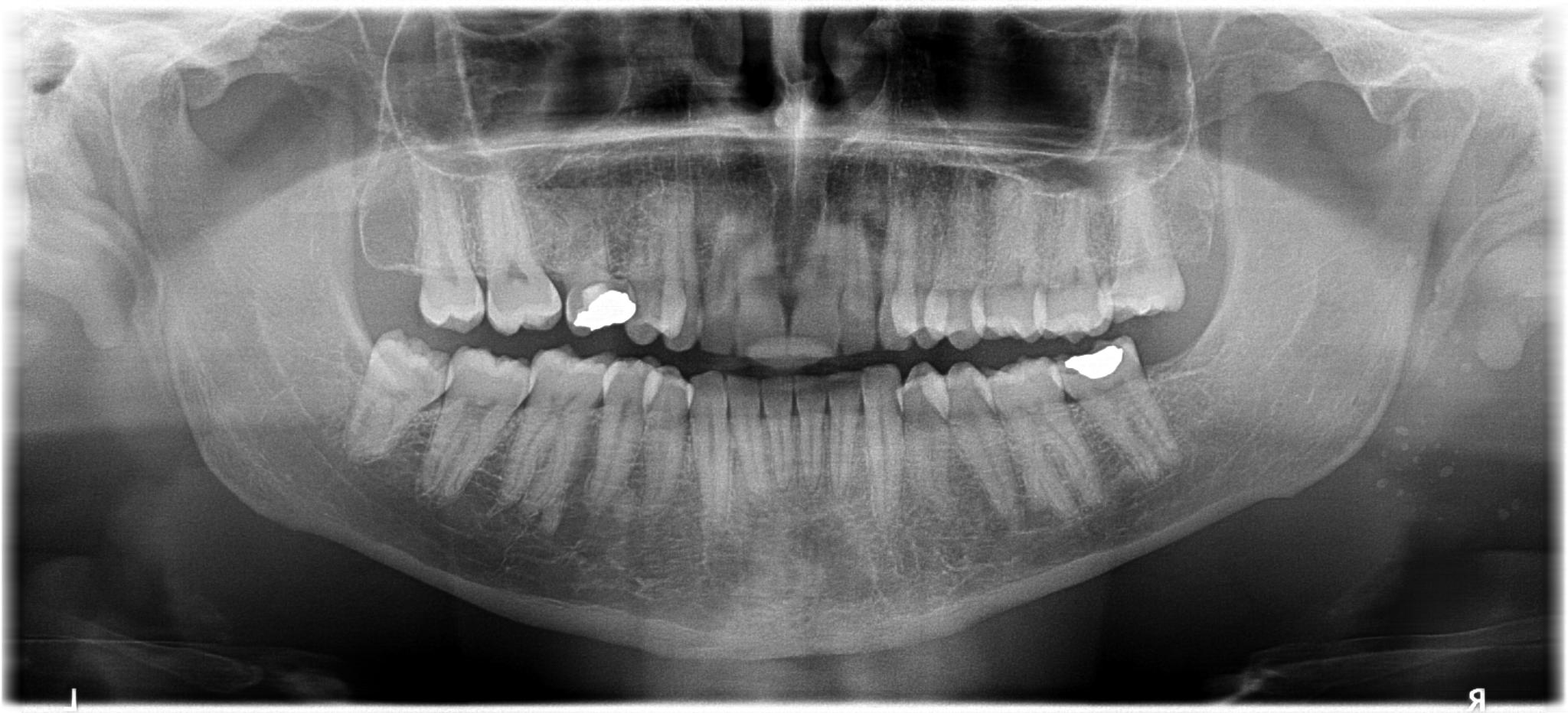Premolars: (615, 259, 1568, 604)
